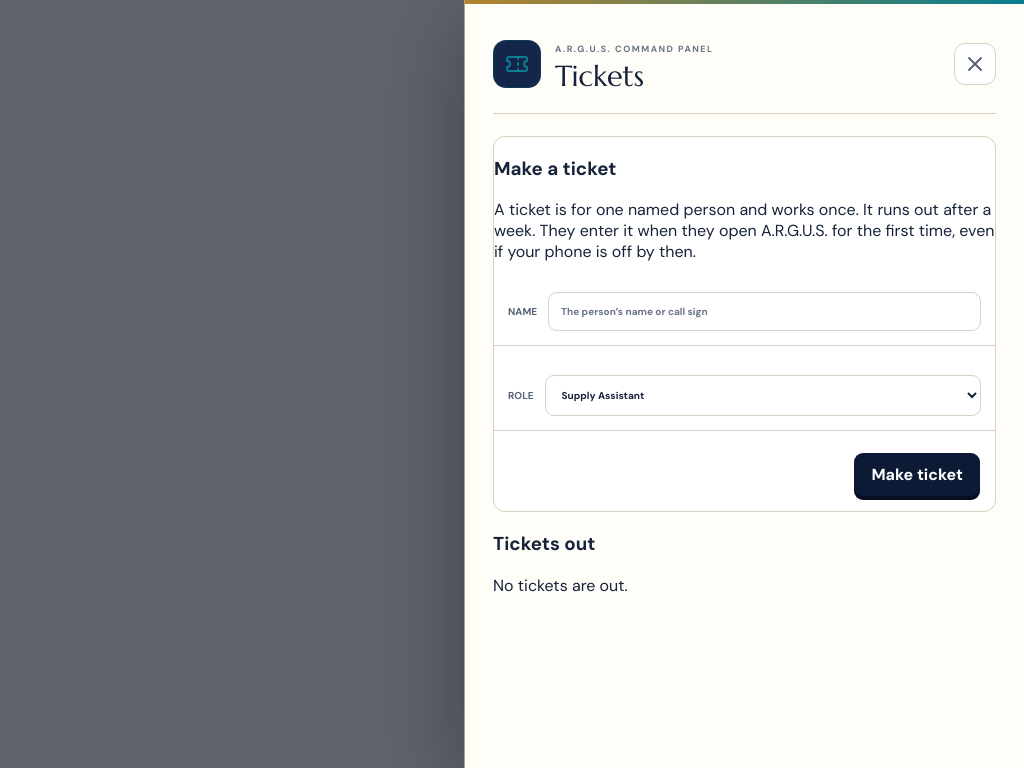
Scenario: Tickets panel with a stand-in device › shows why a ticket could not be made, in the words the runtime gave, and keeps the name typed
Step 1. Type "  Dee Dee " into the field labelled "NAME" → (765, 312), box [548,292,981,331]
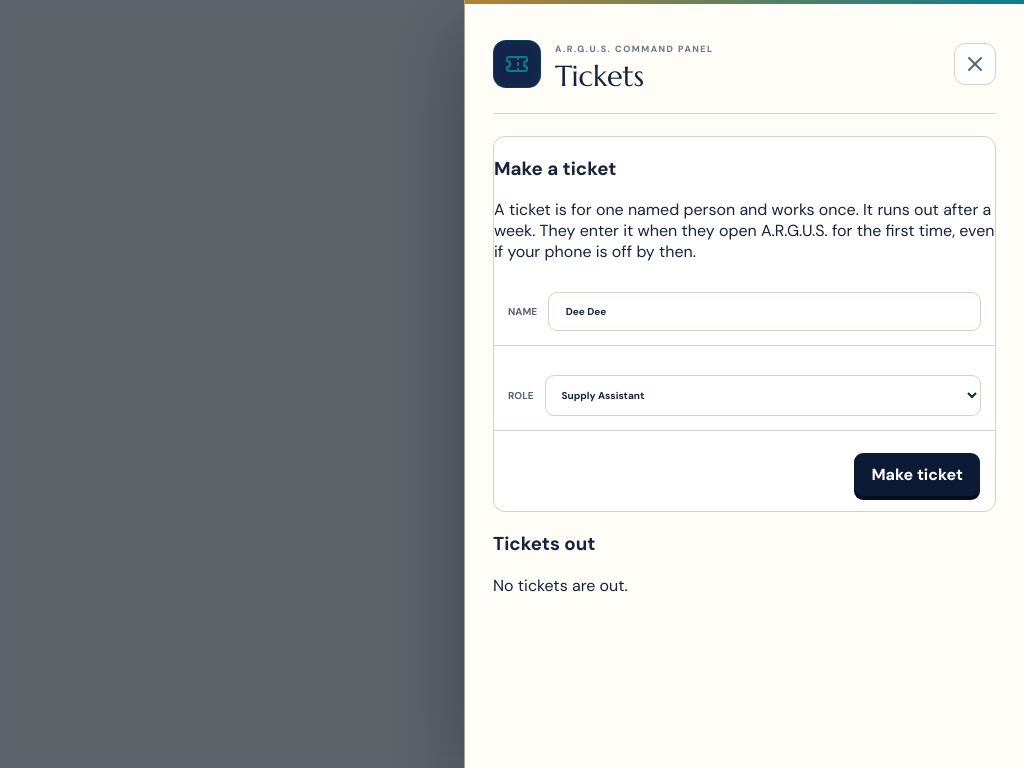
Step 2. Click the button "Make ticket" → click(917, 475), box [854,453,980,496]
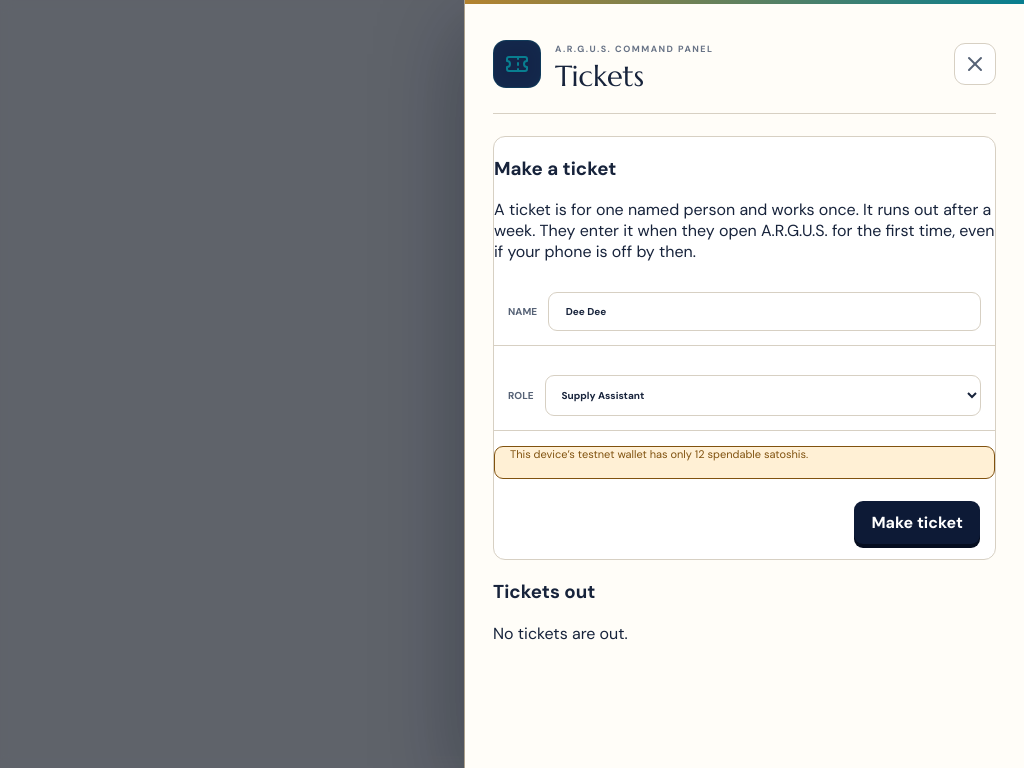
Now the message shows "only 12 spendable satoshis", box [510,447,808,461]
